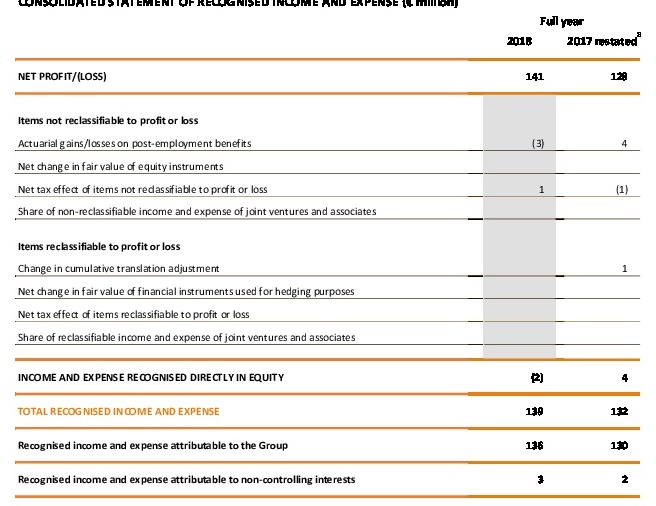table: (0, 0, 656, 506)
